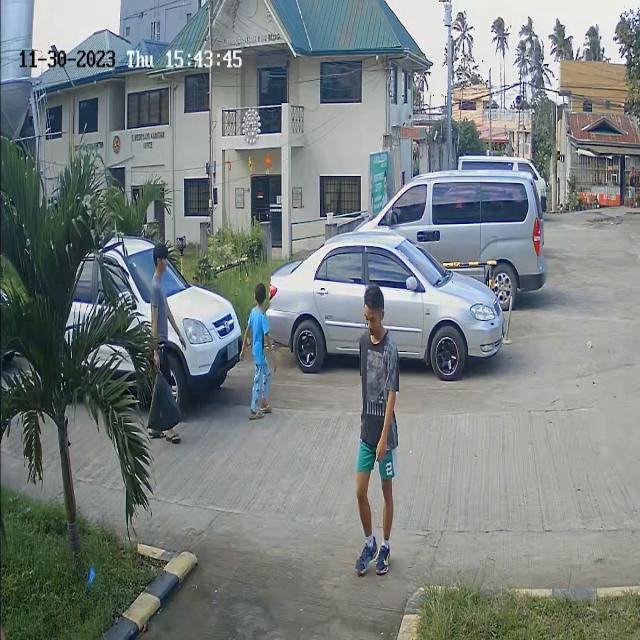garbage: (143, 371, 183, 447)
person: (356, 287, 398, 588), (248, 280, 274, 419), (146, 242, 171, 370)
